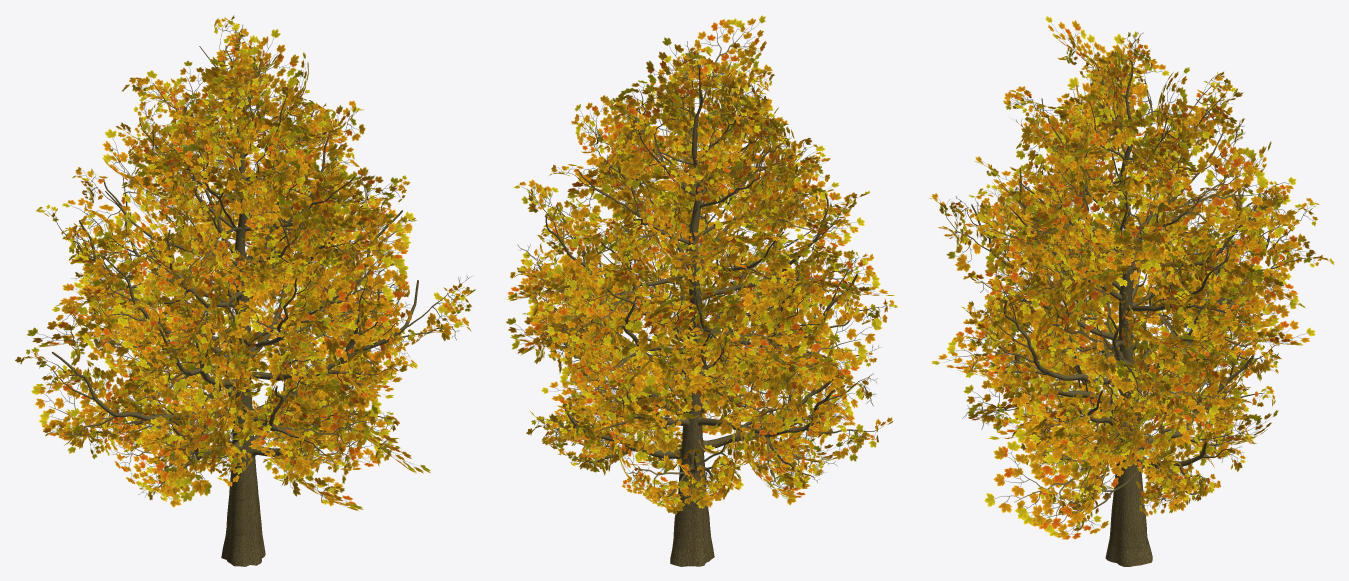
The model's file is mapple.glb.
3 views of the same model, side by side, from view 1: azimuth 30°, elevation 25°; view 2: azimuth 150°, elevation 25°; view 3: azimuth 270°, elevation 25° (orthographic). The views are drawn at different scales.
Visible parts, largest first — view 1: LOD0; view 2: LOD0; view 3: LOD0.
Part boxes in pixels (box(x1,y1,x2,y2)): LOD0: box(15, 15, 475, 566); LOD0: box(506, 15, 897, 566); LOD0: box(928, 16, 1334, 566).
Bounding box in the file's own units: 0.196 × 0.2462 × 0.1726.
Materials: 5 (5 with a texture image).
